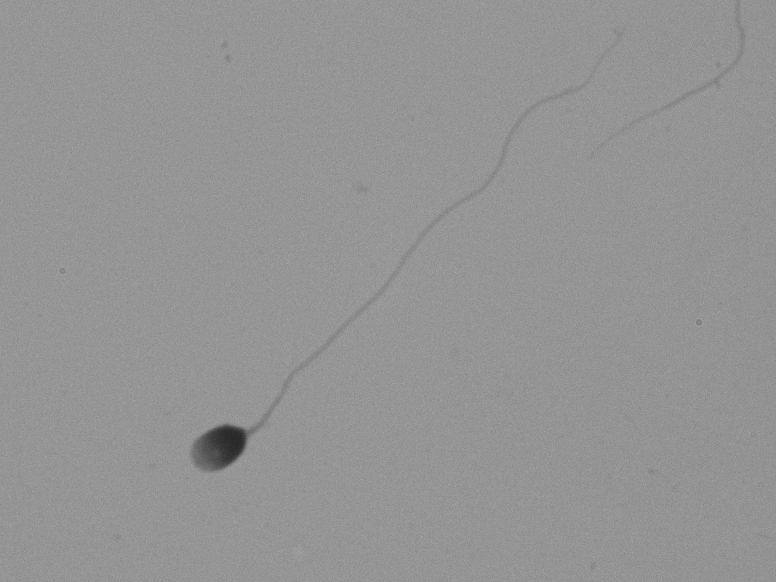Normal: (87, 83, 607, 497)
